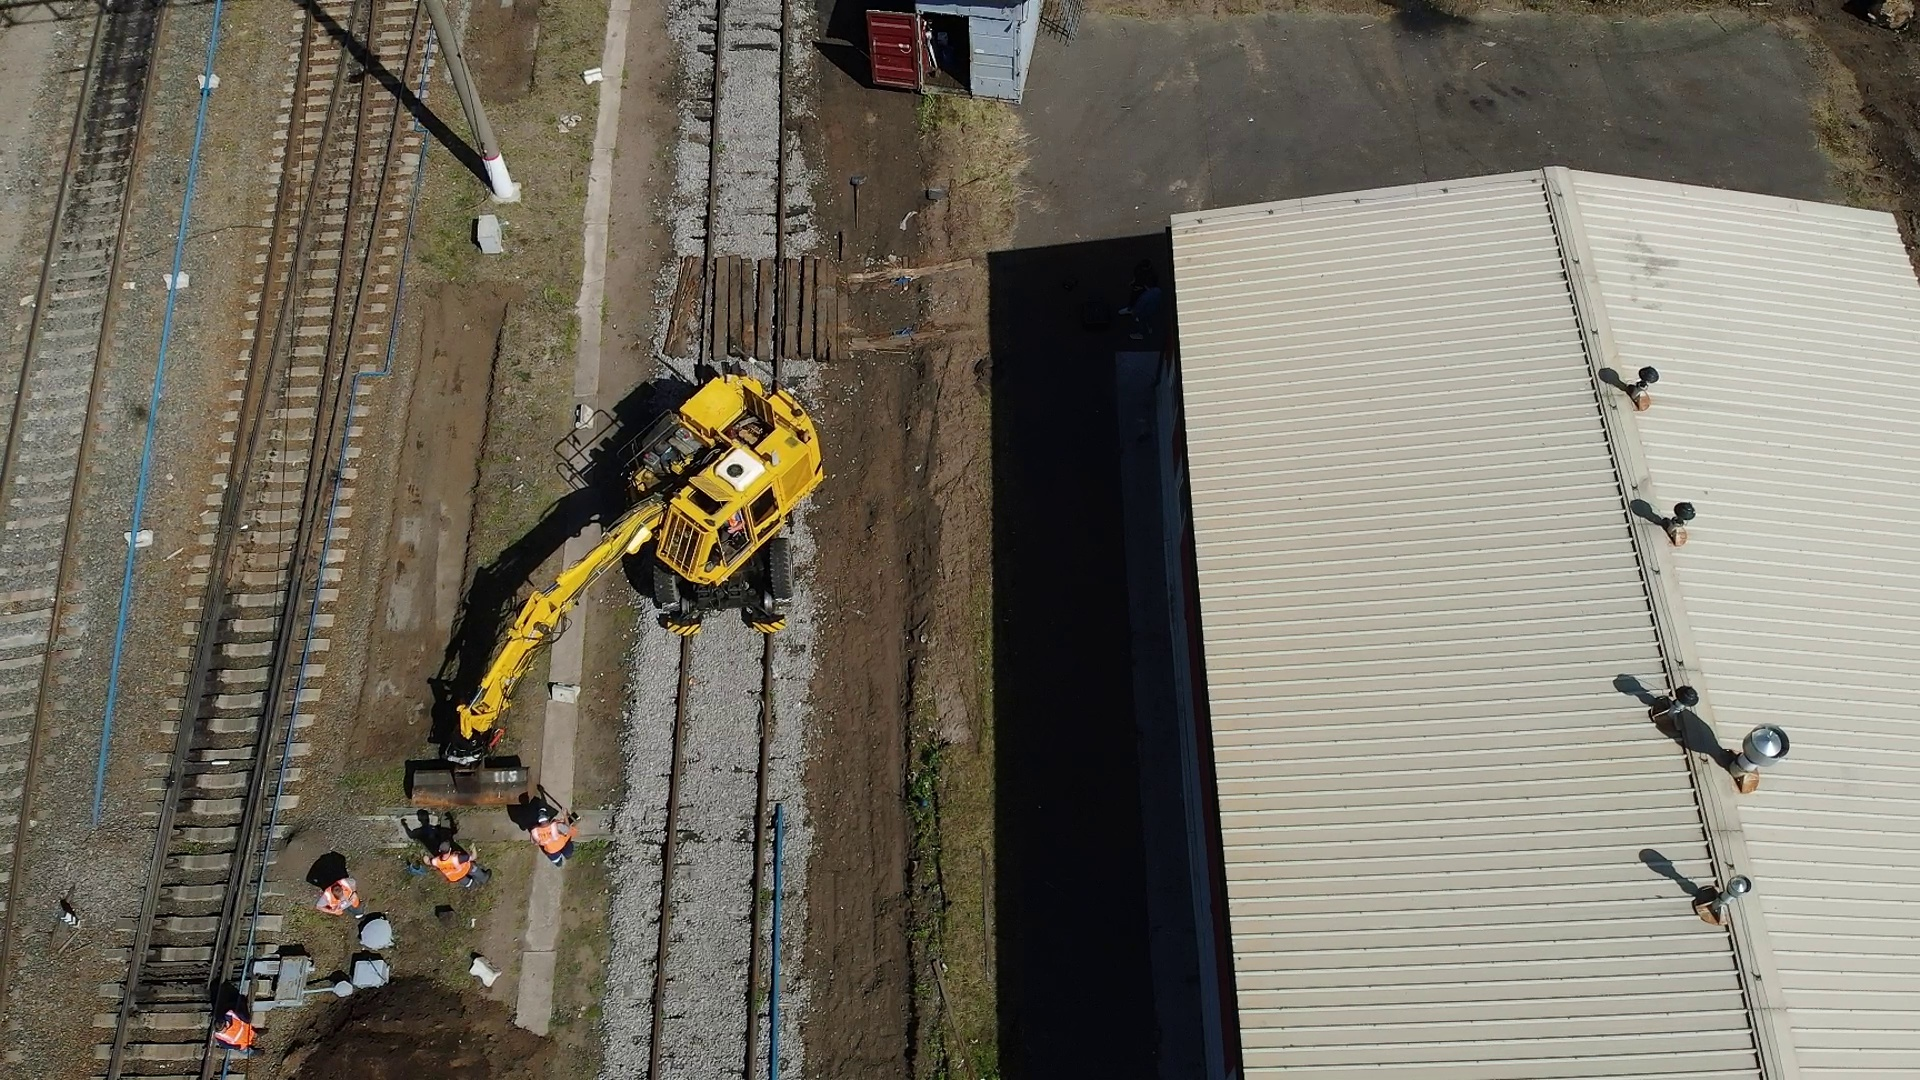kjtv: (542, 343, 827, 658)
